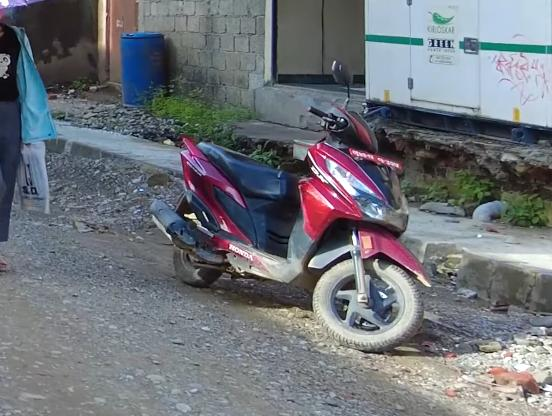scooter: (149, 95, 437, 359)
